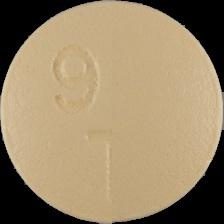63629-5292: (0, 0, 224, 224)
